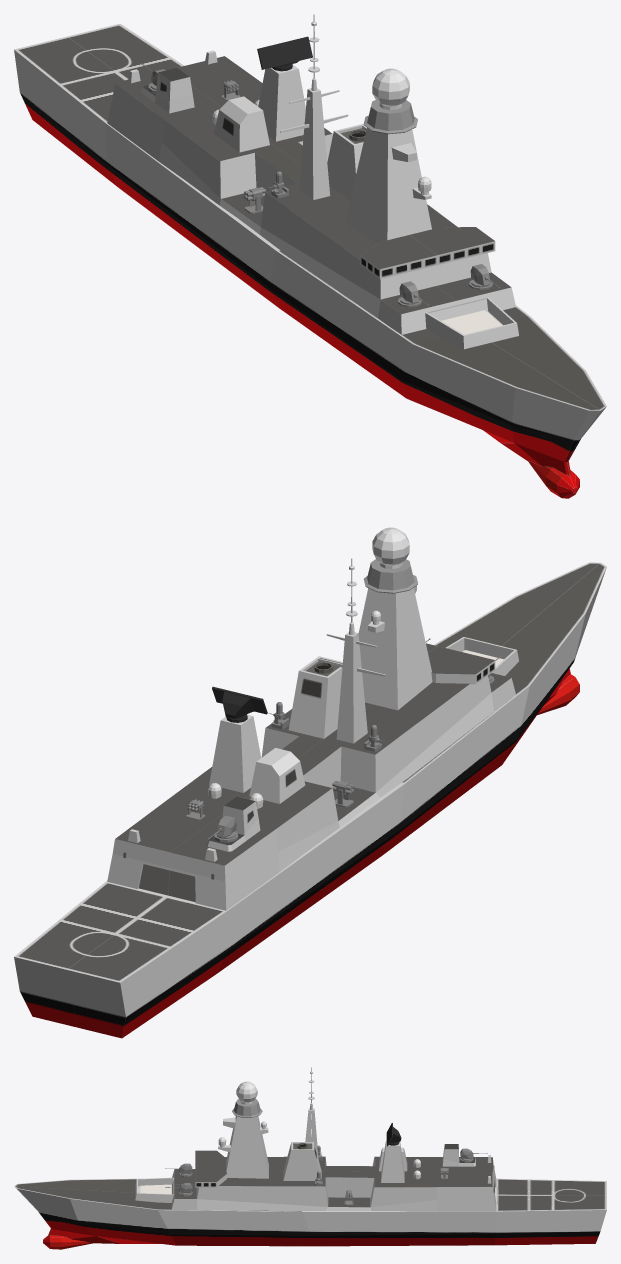
3 views of the same model, one above another, from view 1: azimuth 30°, elevation 25°; view 2: azimuth 150°, elevation 25°; view 3: azimuth 270°, elevation 25° (orthographic). The views are drawn at different scales.
Visible parts, largest first — view 1: Cube, Cylinder.002, Cube.001; view 2: Cube, Cylinder.002, Cube.001; view 3: Cube, Cylinder.002.
Boxes of the visible parts, box(x1,y1,x2,y2) form: Cube: box(14, 14, 606, 498); Cylinder.002: box(212, 68, 431, 194); Cube.001: box(257, 36, 312, 69); Cube: box(14, 558, 606, 1038); Cylinder.002: box(208, 527, 417, 808); Cube.001: box(212, 686, 267, 718); Cube: box(14, 1067, 606, 1249); Cylinder.002: box(218, 1081, 420, 1179).
Size of the model in its own units: 67.53 by 159 by 484.
Materials: 5 (1 with a texture image).
